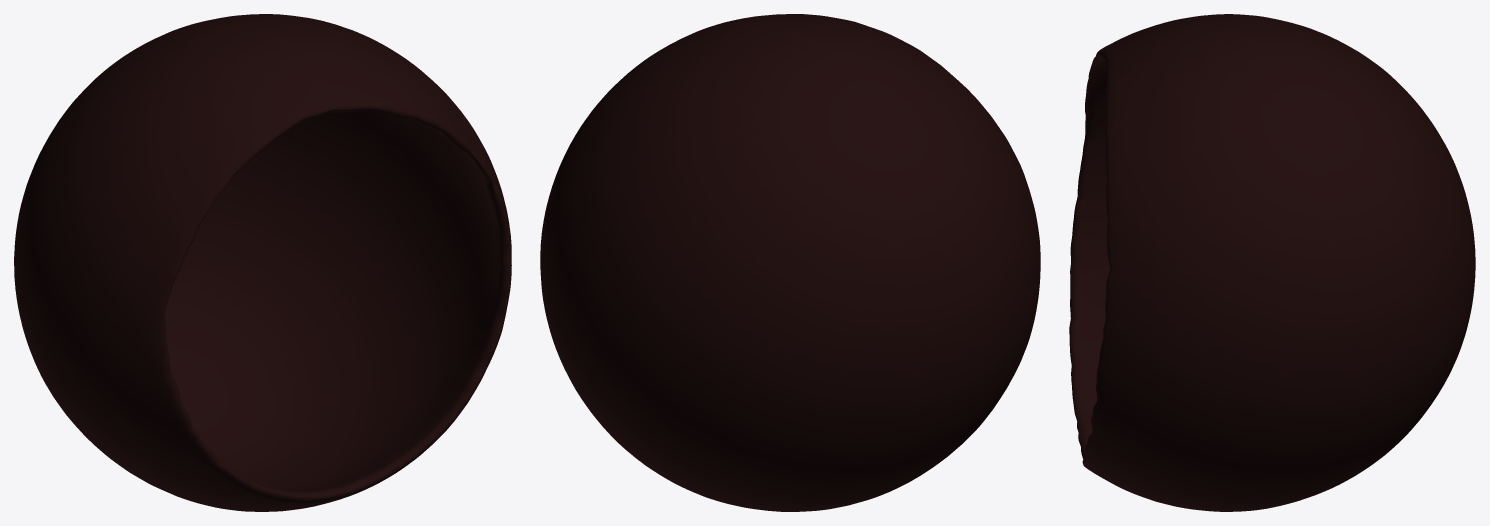
Rendered from Retina_left.glb.
3 views of the same model, side by side, from view 1: azimuth 30°, elevation 25°; view 2: azimuth 150°, elevation 25°; view 3: azimuth 270°, elevation 25° (orthographic).
Visible parts, largest first — view 1: Retina-l_grp1.047; view 2: Retina-l_grp1.047; view 3: Retina-l_grp1.047.
Boxes of the visible parts, x1,y1,x2,y2 form: Retina-l_grp1.047: (14, 14, 511, 511); Retina-l_grp1.047: (540, 14, 1040, 511); Retina-l_grp1.047: (1069, 14, 1475, 511).
Size of the model in its own units: 0.0219 by 0.0218 by 0.0178.
